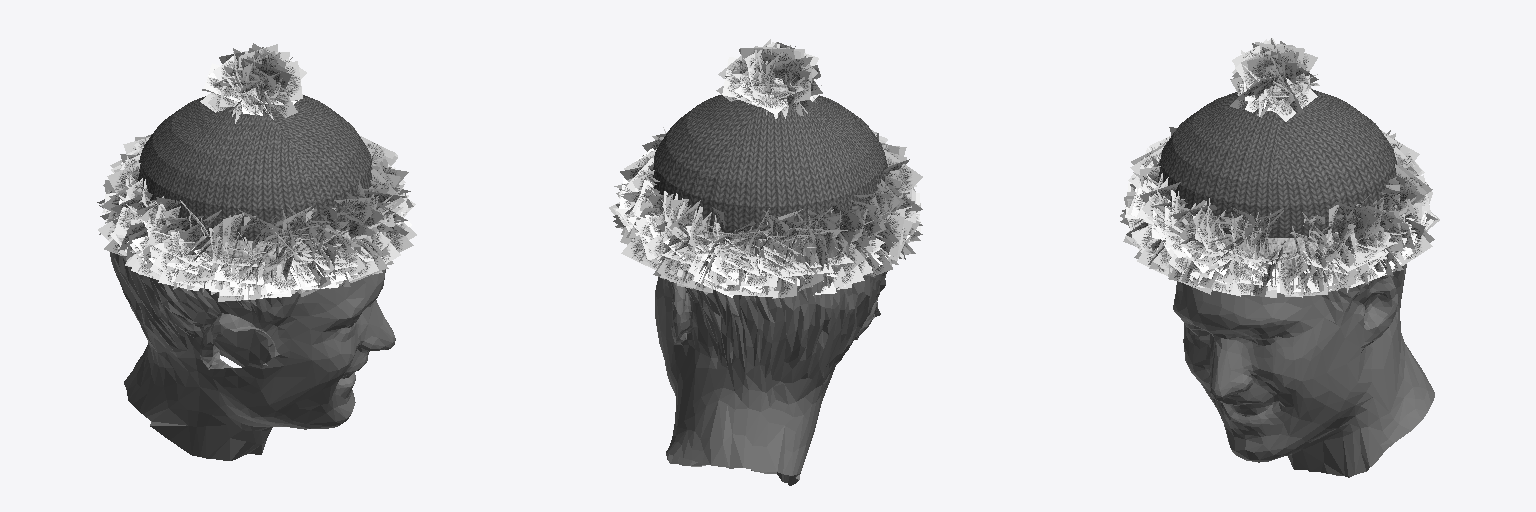
3 renders of one model, left to right at view 1: azimuth 30°, elevation 25°; view 2: azimuth 150°, elevation 25°; view 3: azimuth 270°, elevation 25°, orthographic.
Parts seen in each view (by area): view 1: Fur_hat_Plane, head; view 2: Fur_hat_Plane, head; view 3: Fur_hat_Plane, head.
Boxes of the visible parts, x1=… form: Fur_hat_Plane: x1=97, y1=43, x2=416, y2=301; head: x1=110, y1=252, x2=395, y2=460; Fur_hat_Plane: x1=609, y1=39, x2=922, y2=298; head: x1=655, y1=229, x2=887, y2=485; Fur_hat_Plane: x1=1120, y1=38, x2=1439, y2=297; head: x1=1173, y1=264, x2=1434, y2=477.
Bounding box in the file's own units: 3.04 × 4.35 × 3.04.
2 materials, 1 textured.